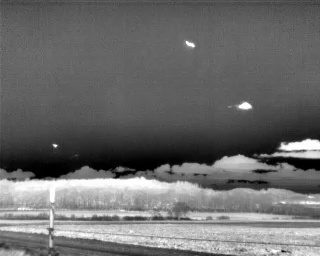DRONE: (181, 37, 198, 53)
